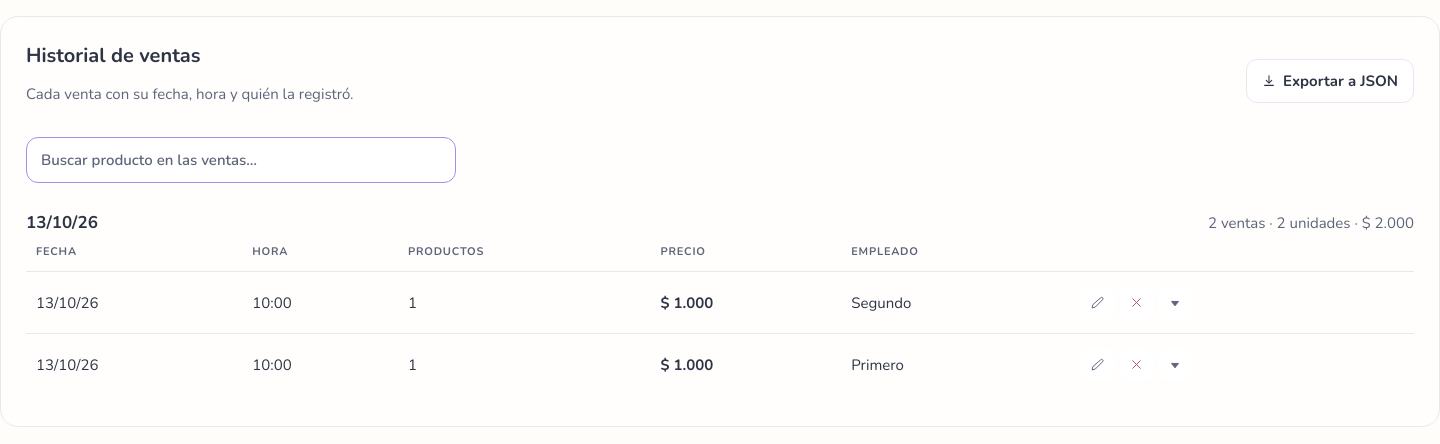
Test: Historial de ventas: orden por marca exacta y buscador de productos › filtra las ventas por el nombre del producto
Type "refresco" into the search field with placeholder "Buscar producto en las ventas…" at [241, 160], box [26,137,456,183]
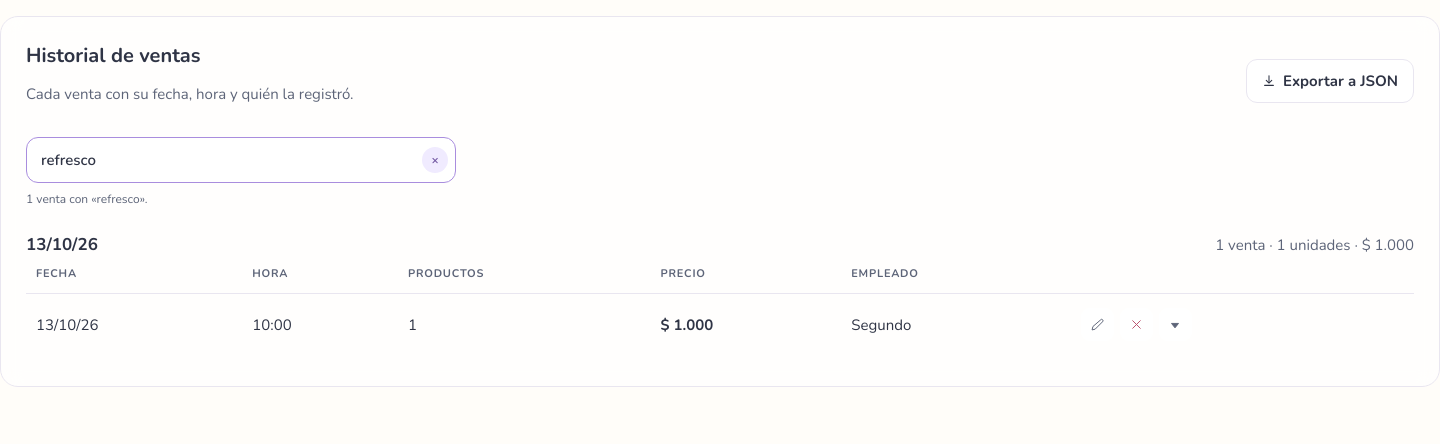
Expected: the cell "Segundo" is shown, [841,294,1070,345]
Expected: the text "1 venta con «refresco»." is shown, [26,191,148,207]
